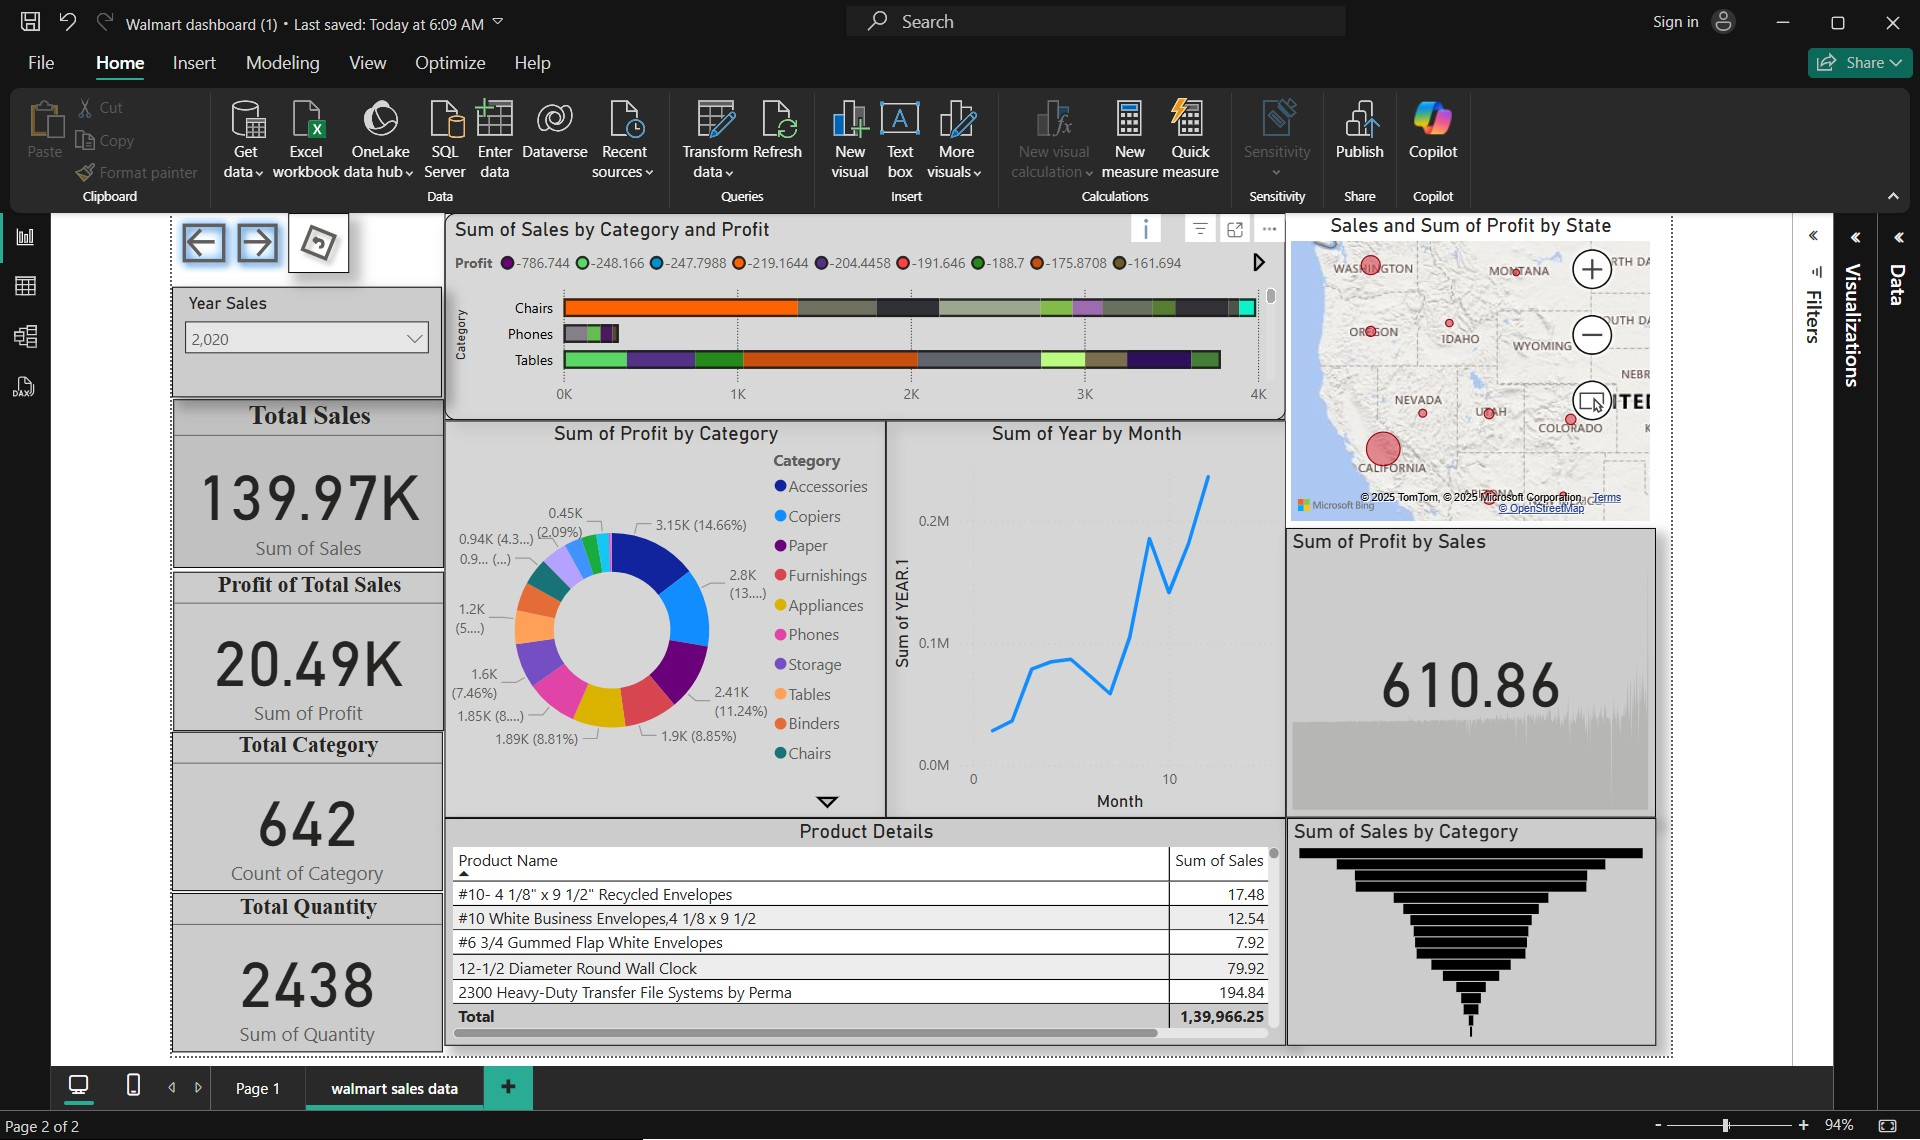

This screenshot's page, from the dashboard's own definition file:
{"tool":"powerbi","page":{"name":"walmart sales data","canvas":[1280,720],"ordinal":1},"visuals":[{"type":"card","title":"Total Sales ","fields":{"Values":["Sum(Walmart.Sales)"]},"box":[1.2,159.3,231.4,144.2],"z":0},{"type":"card","title":"Profit of Total Sales","fields":{"Values":["Sum(Walmart.Profit)"]},"box":[1.2,305.8,231.4,136],"z":1000},{"type":"card","title":"Total Category","fields":{"Values":["CountNonNull(Walmart.Category)"]},"box":[0,443,231.4,136],"z":2000},{"type":"card","title":"Total Quantity","fields":{"Values":["Sum(Walmart.Quantity)"]},"box":[0,580.2,231.4,136],"z":3000},{"type":"barChart","fields":{"Series":["Walmart.Profit"],"Y":["Sum(Walmart.Sales)"],"Category":["Walmart.Category"]},"box":[232.6,0,718.6,176.7],"z":4000},{"type":"donutChart","fields":{"Category":["Walmart.Category"],"Y":["Sum(Walmart.Profit)"]},"box":[232.6,176.7,376.7,339.5],"z":5000},{"type":"lineChart","title":"Sum of Year by Month","fields":{"Category":["Walmart.Month"],"Y":["Sum(Walmart.YEAR.1)"]},"box":[609.3,176.7,341.9,339.5],"z":6000},{"type":"slicer","fields":{"Values":["Walmart.YEAR.1","Walmart.Category","Walmart.State"]},"box":[0,62.8,230.2,94.2],"z":7000},{"type":"map","title":"Sales and Sum of Profit by State","fields":{"Category":["Walmart.State"],"Size":["Sum(Walmart.Sales)"]},"box":[951.2,0,316.3,268.6],"z":8000},{"type":"tableEx","title":"Product Details","fields":{"Values":["Walmart.Product Name","Sum(Walmart.Sales)","Sum(Walmart.Quantity)"]},"box":[289.2,522.8,718.1,194.2],"z":9000},{"type":"kpi","fields":{"Indicator":["Sum(Walmart.Profit)"],"TrendLine":["Walmart.Sales"]},"box":[951,269,316,247],"z":10000},{"type":"funnel","fields":{"Category":["Walmart.Category"],"Y":["Sum(Walmart.Sales)"]},"box":[952,516,315,194],"z":11000},{"type":"actionButton","box":[0,0,54.7,51.2],"z":12000},{"type":"actionButton","box":[46.5,0,52.3,51.2],"z":13000},{"type":"actionButton","box":[98.8,0,52.3,51.2],"z":14000}]}

Visuals, with their boxes on the page's 1280x720 design canvas (x1, y1, x2, y2). These are canvas units, not pixel positions in the 1920x1140 screenshot, which may show the page scaled, cropped or inside an application window:
"Total Sales " card: {"left": 1, "top": 159, "right": 233, "bottom": 304}
"Profit of Total Sales" card: {"left": 1, "top": 306, "right": 233, "bottom": 442}
"Total Category" card: {"left": 0, "top": 443, "right": 231, "bottom": 579}
"Total Quantity" card: {"left": 0, "top": 580, "right": 231, "bottom": 716}
barChart - Walmart.Profit x Sum(Walmart.Sales): {"left": 233, "top": 0, "right": 951, "bottom": 177}
donutChart - Walmart.Category x Sum(Walmart.Profit): {"left": 233, "top": 177, "right": 609, "bottom": 516}
"Sum of Year by Month" lineChart: {"left": 609, "top": 177, "right": 951, "bottom": 516}
slicer - Walmart.YEAR.1 x Walmart.Category: {"left": 0, "top": 63, "right": 230, "bottom": 157}
"Sales and Sum of Profit by State" map: {"left": 951, "top": 0, "right": 1268, "bottom": 269}
"Product Details" tableEx: {"left": 289, "top": 523, "right": 1007, "bottom": 717}
kpi - Sum(Walmart.Profit) x Walmart.Sales: {"left": 951, "top": 269, "right": 1267, "bottom": 516}
funnel - Walmart.Category x Sum(Walmart.Sales): {"left": 952, "top": 516, "right": 1267, "bottom": 710}
actionButton: {"left": 0, "top": 0, "right": 55, "bottom": 51}
actionButton: {"left": 46, "top": 0, "right": 99, "bottom": 51}
actionButton: {"left": 99, "top": 0, "right": 151, "bottom": 51}
